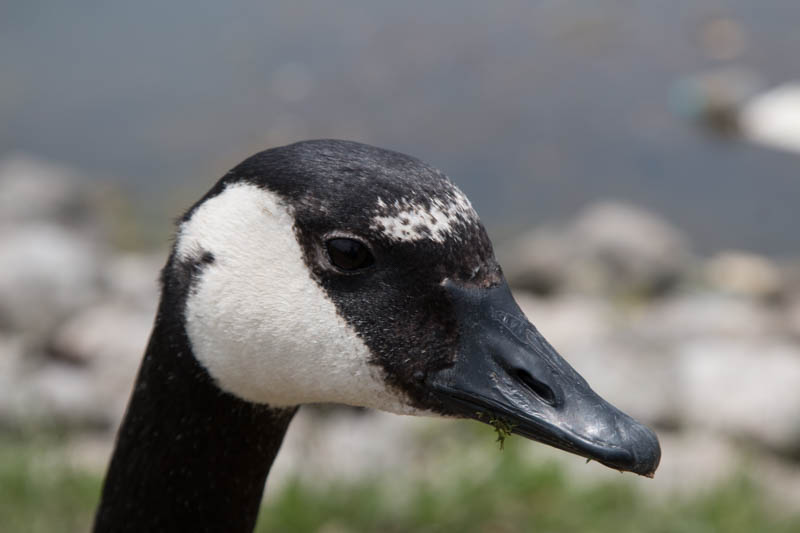goose-head: (141, 138, 661, 479)
